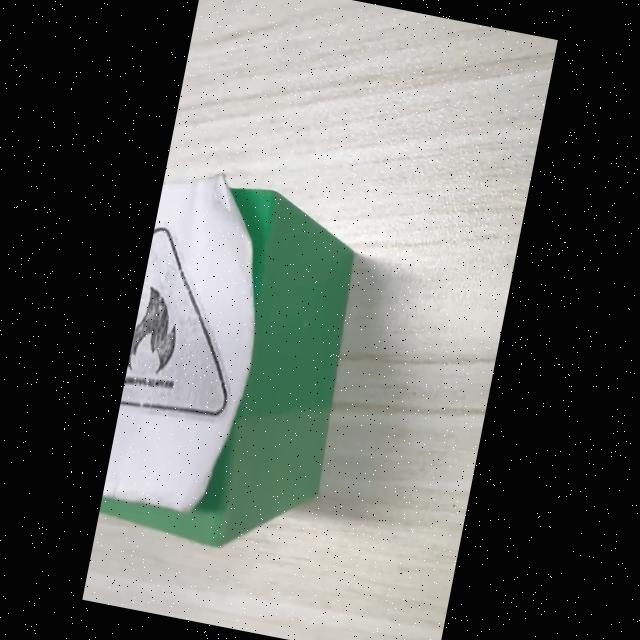Fire: (120, 227, 227, 416)
